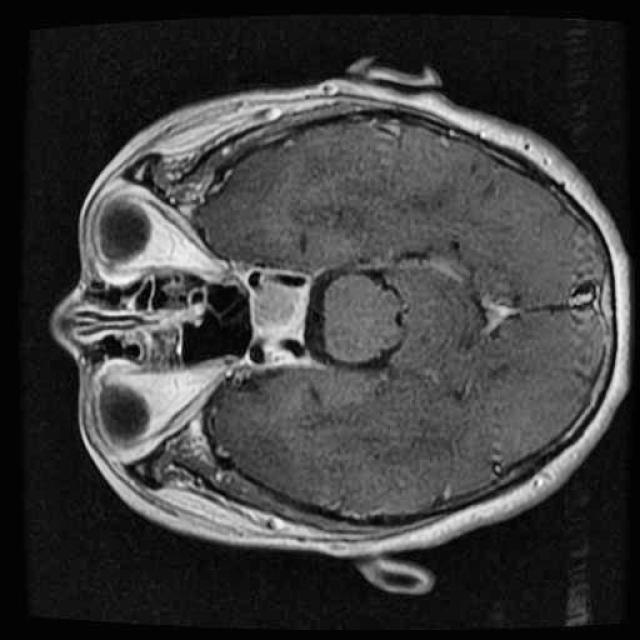Tumor: (244, 270, 316, 342)
